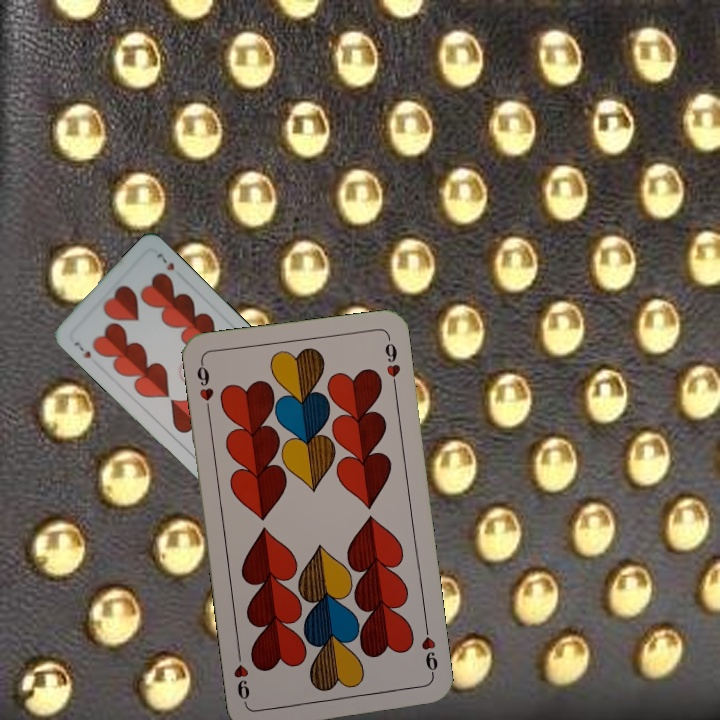H7: (70, 337, 94, 361)
H9: (417, 621, 441, 681), (193, 358, 216, 417)
